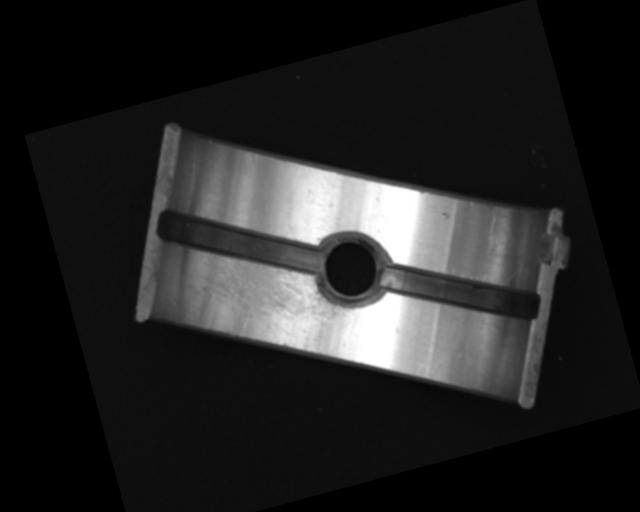bruise: (439, 210, 451, 221)
gap: (156, 175, 322, 307), (378, 231, 542, 354)
hole: (310, 225, 393, 315)
nick: (477, 207, 508, 254)
scratch: (187, 221, 359, 382)
